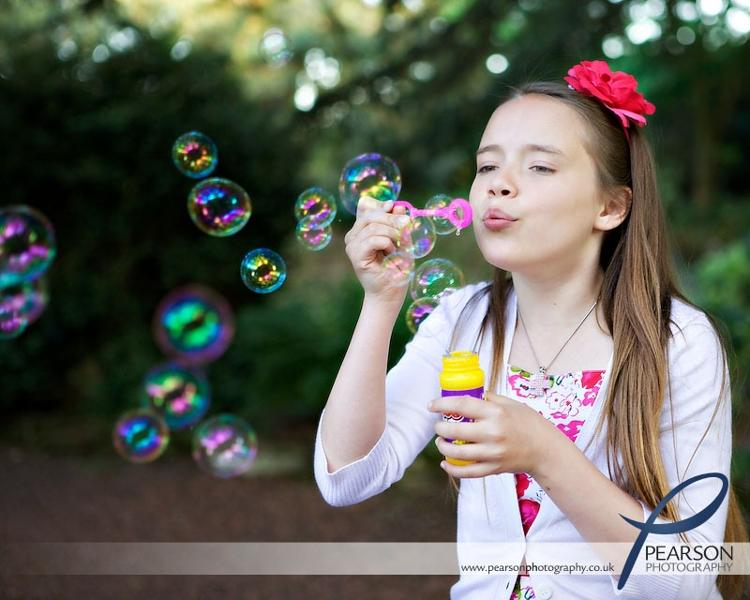person: (310, 69, 743, 600)
